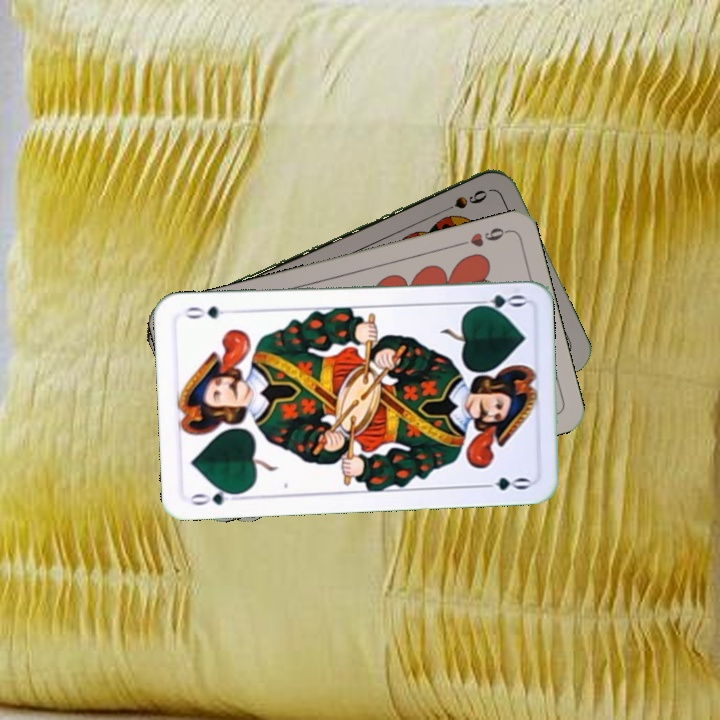GO: (186, 483, 245, 508), (468, 291, 527, 312)
H9: (453, 223, 511, 250)
S9: (435, 186, 490, 217)
